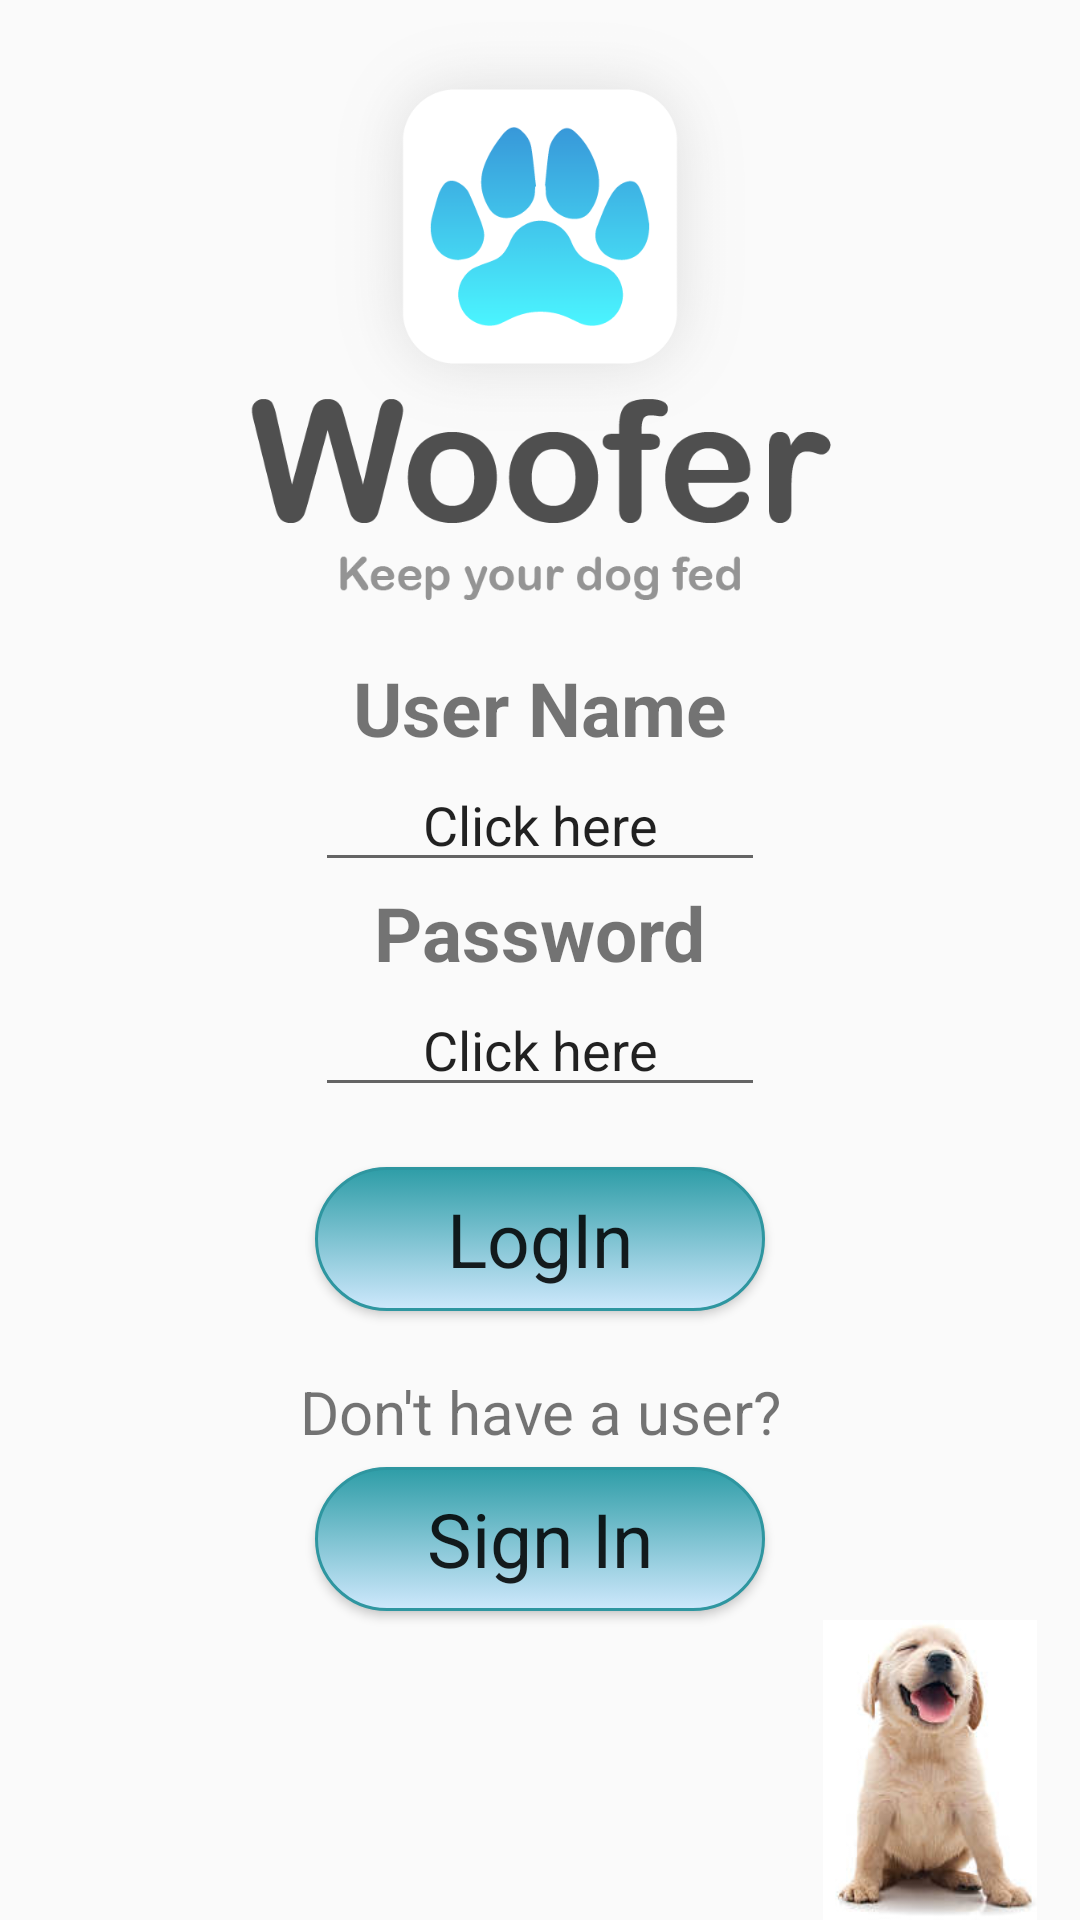

Icon click points for this 1080w x 1920h phone screenshot, format (x,y):
dogrdy: (935,1769)
